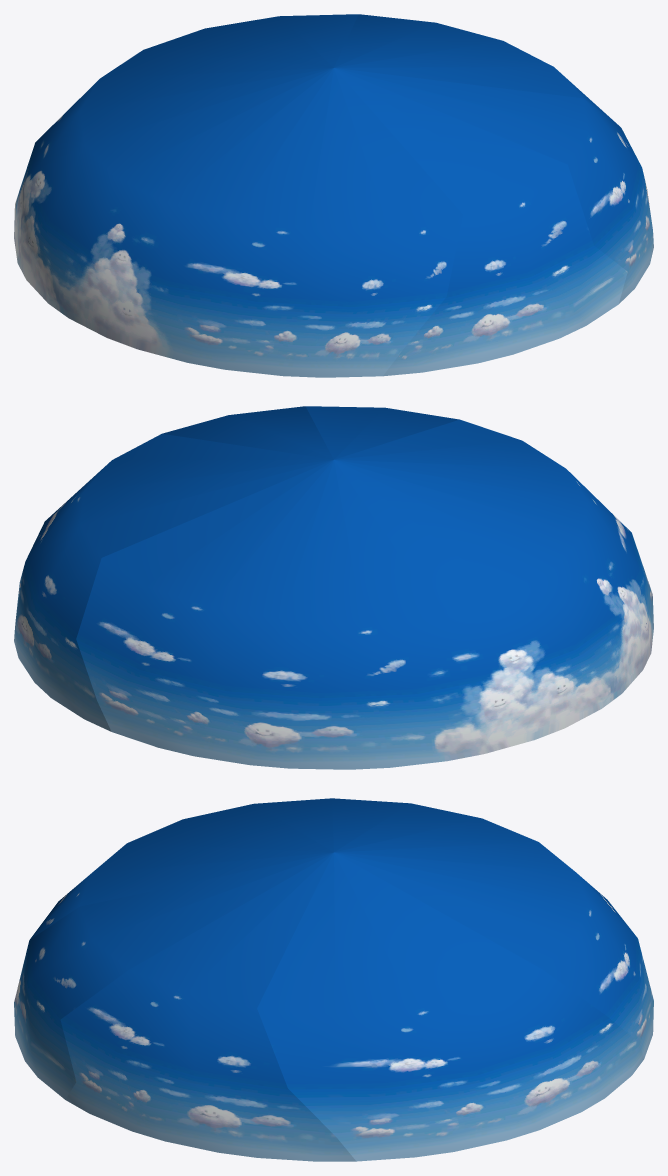
Rendered from peach_course_L.dae.
3 renders of one model, top to bottom at view 1: azimuth 30°, elevation 25°; view 2: azimuth 150°, elevation 25°; view 3: azimuth 270°, elevation 25°, orthographic.
Visible parts, largest first — view 1: n11b0; view 2: n11b0; view 3: n11b0.
Part boxes in pixels (x1=…): n11b0: x1=14, y1=14, x2=653, y2=377; n11b0: x1=14, y1=406, x2=653, y2=769; n11b0: x1=14, y1=798, x2=653, y2=1161.
Size of the model in its own units: 262260 by 79722 by 262260.
